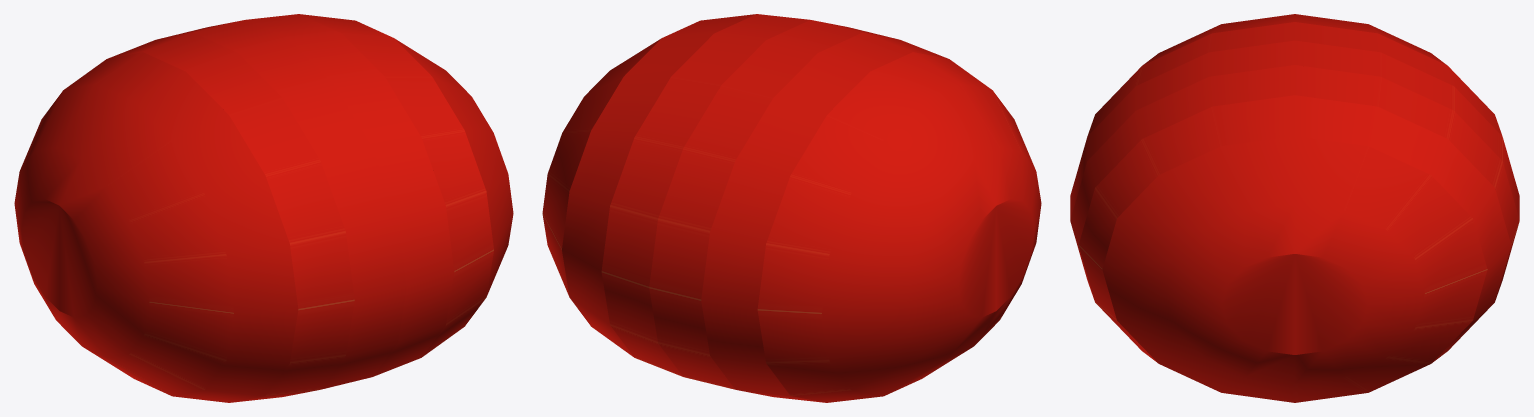
File: Tomato_01_Sliced.fbx
3 views of the same model, side by side, from view 1: azimuth 30°, elevation 25°; view 2: azimuth 150°, elevation 25°; view 3: azimuth 270°, elevation 25° (orthographic). The views are drawn at different scales.
Parts seen in each view (by area): view 1: Tomato_01_P5, Tomato_01_P4, Tomato_01_P3, Tomato_01_P2, Tomato_01_P1, Tomato_01_Sliced; view 2: Tomato_01_P5, Tomato_01_P4, Tomato_01_P3, Tomato_01_P2, Tomato_01_P1, Tomato_01_Sliced; view 3: Tomato_01_Sliced, Tomato_01_P1, Tomato_01_P2, Tomato_01_P3, Tomato_01_P4, Tomato_01_P5.
Part boxes in pixels (x1,y1,x2,y2): Tomato_01_P5: (14, 52, 298, 402); Tomato_01_P4: (107, 32, 354, 402); Tomato_01_P3: (158, 20, 406, 389); Tomato_01_P2: (246, 14, 454, 376); Tomato_01_P1: (299, 14, 493, 356); Tomato_01_Sliced: (394, 38, 513, 296); Tomato_01_P5: (757, 52, 1041, 402); Tomato_01_P4: (701, 32, 948, 402); Tomato_01_P3: (649, 20, 897, 389); Tomato_01_P2: (601, 14, 809, 376); Tomato_01_P1: (562, 14, 756, 356); Tomato_01_Sliced: (542, 38, 661, 296); Tomato_01_Sliced: (1102, 136, 1487, 402); Tomato_01_P1: (1078, 95, 1511, 362); Tomato_01_P2: (1070, 65, 1519, 299); Tomato_01_P3: (1070, 40, 1519, 219); Tomato_01_P4: (1087, 22, 1502, 135); Tomato_01_P5: (1143, 14, 1446, 65).
Size of the model in its own units: 31.76 by 24.03 by 31.43.
